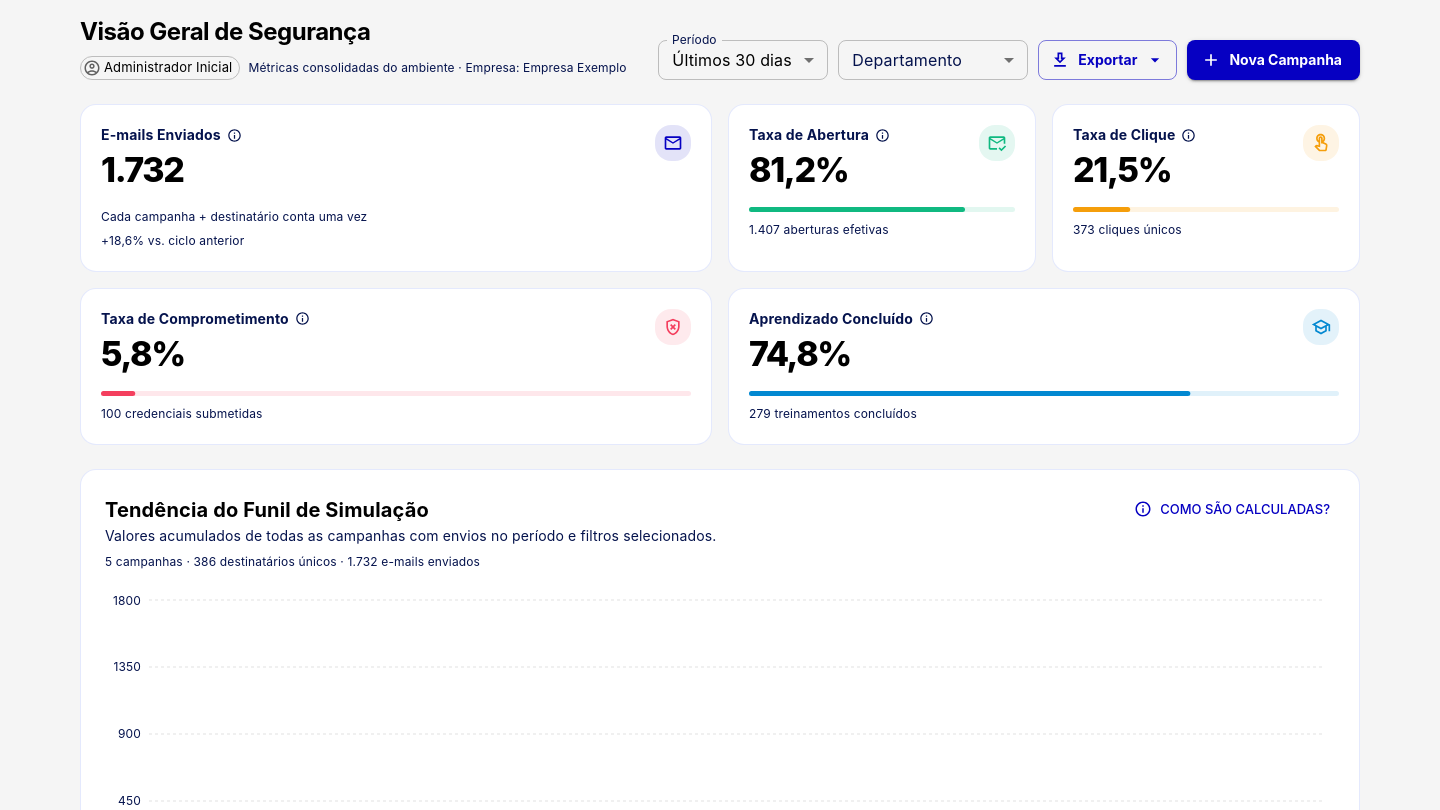
AdminDashboard — visão executiva essencial › não exporta dados reais no modo demonstração
Check: the text "Empresa Exemplo" is shown, box [523,60,627,75]
Click the button "Exportar".
click(1108, 60)  # box [1038,40,1177,80]
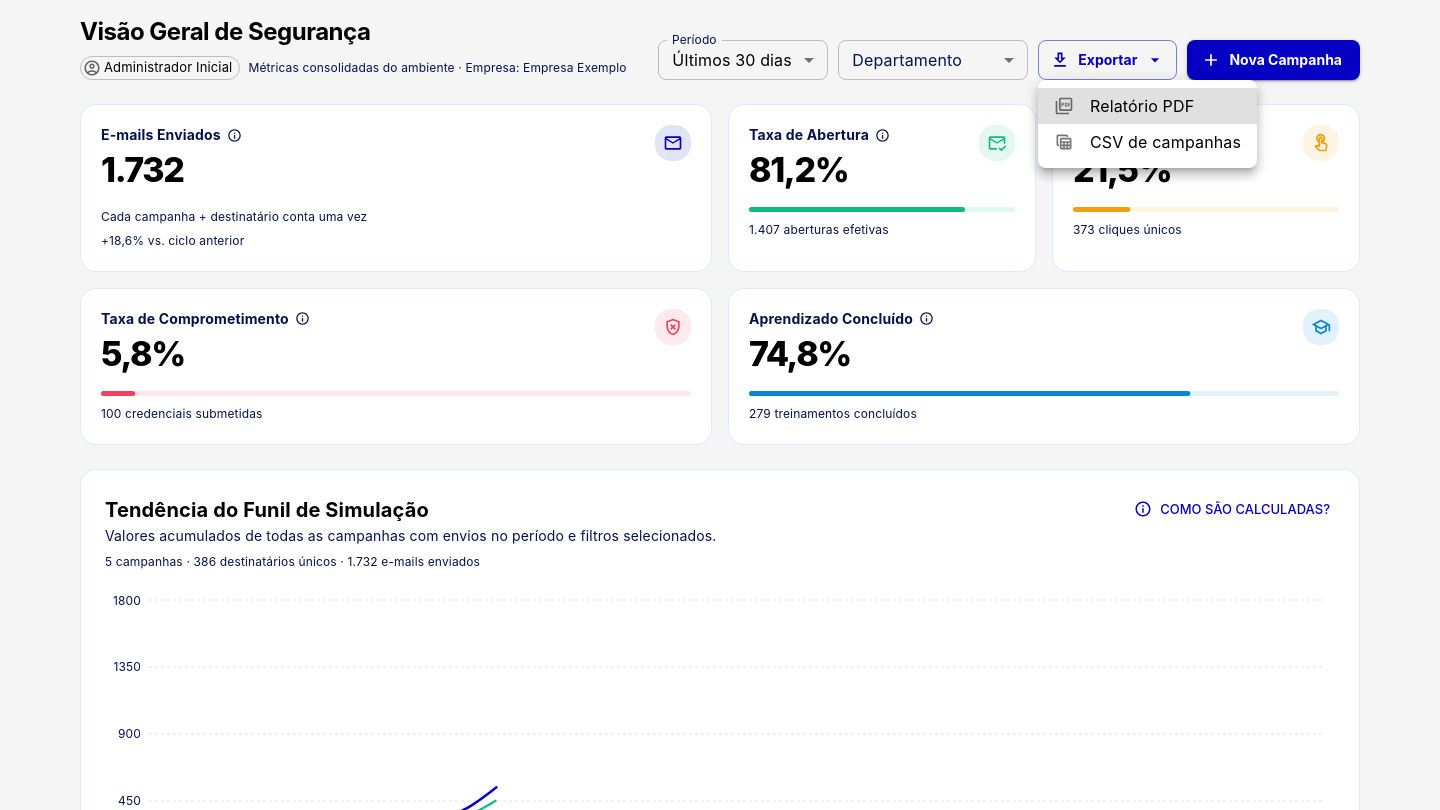
Click the menu item "Relatório PDF".
click(1148, 106)  # box [1038,88,1257,124]
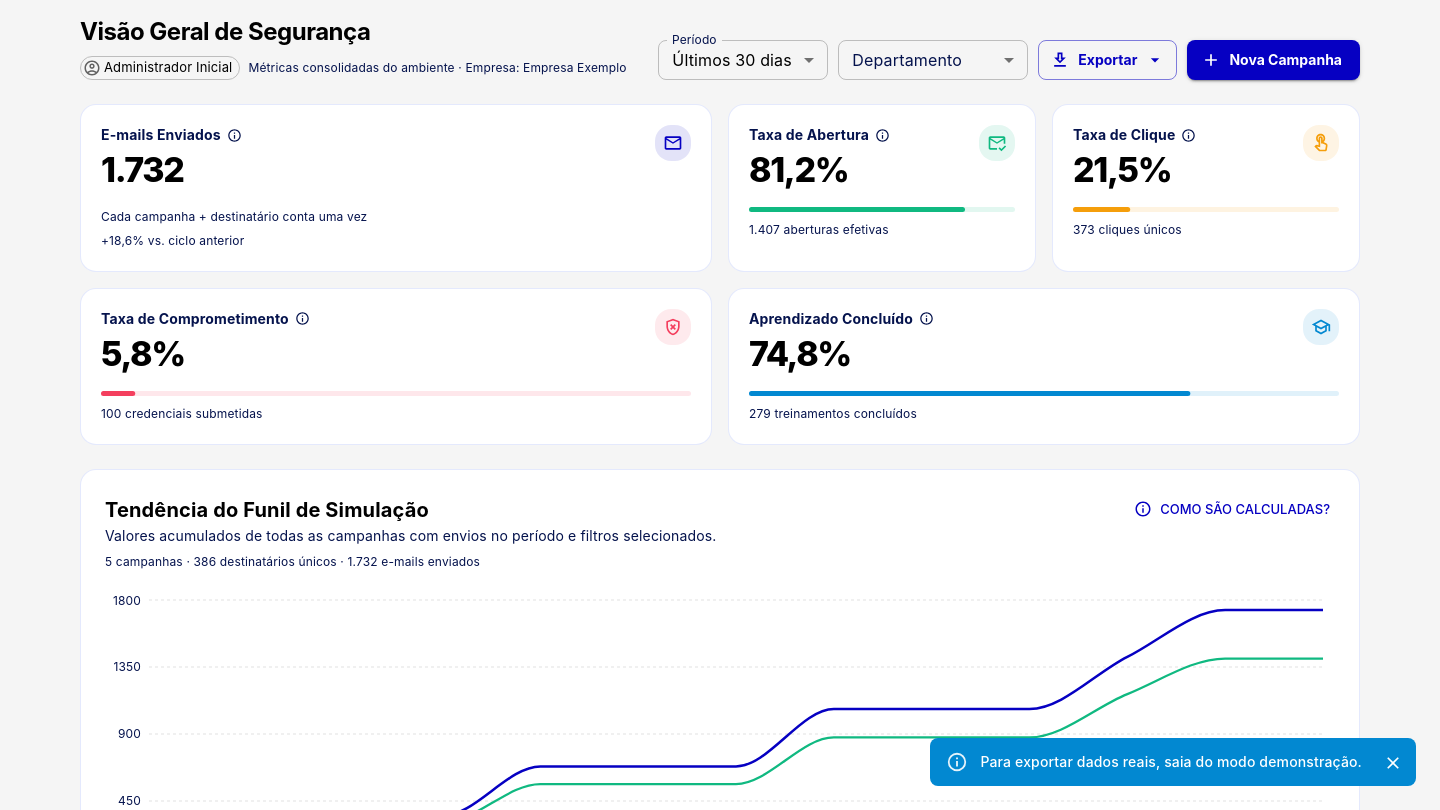
Check: the text "Para exportar dados reais, saia do modo demonstração." is shown, box [980,753,1362,770]
